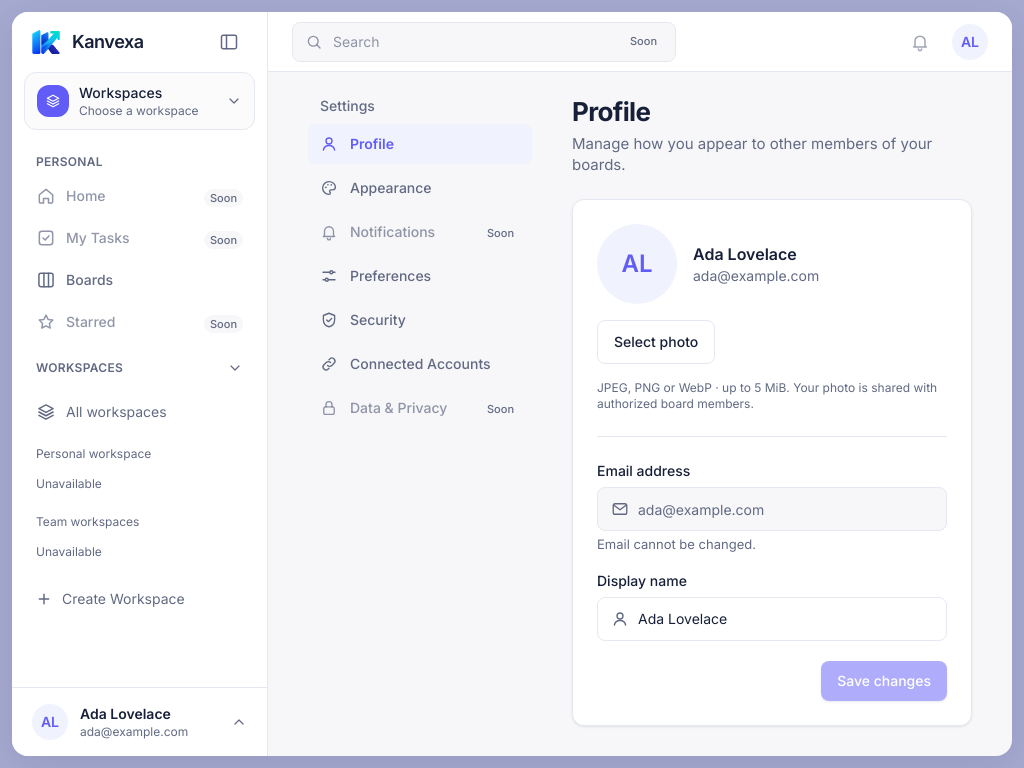
it: auth session isolation › applies a PATCH to the cache and form in the same session
The width and height of the screenshot is (1024, 768).
Expected: the heading "Profile" is shown, [572,96,650,127]
Replace the text in the field labelled "Display name" with "Old session profile" at (772, 619), box [597,597,947,641]
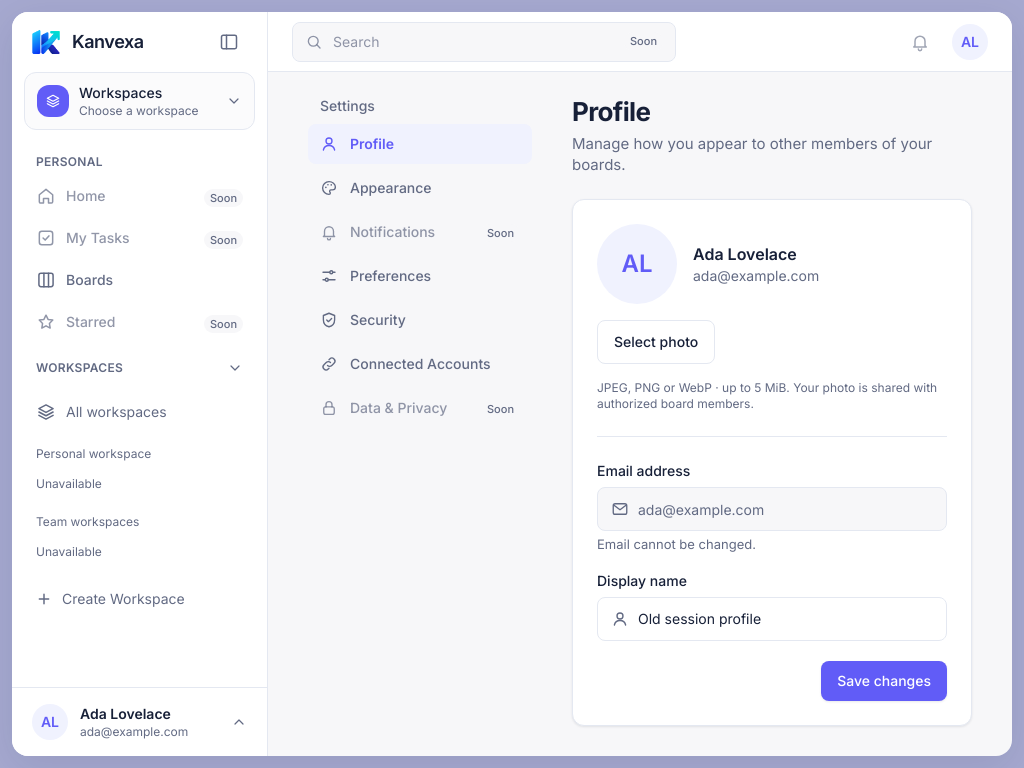
Click the button "Save changes" at (884, 681), box [821,661,947,701]
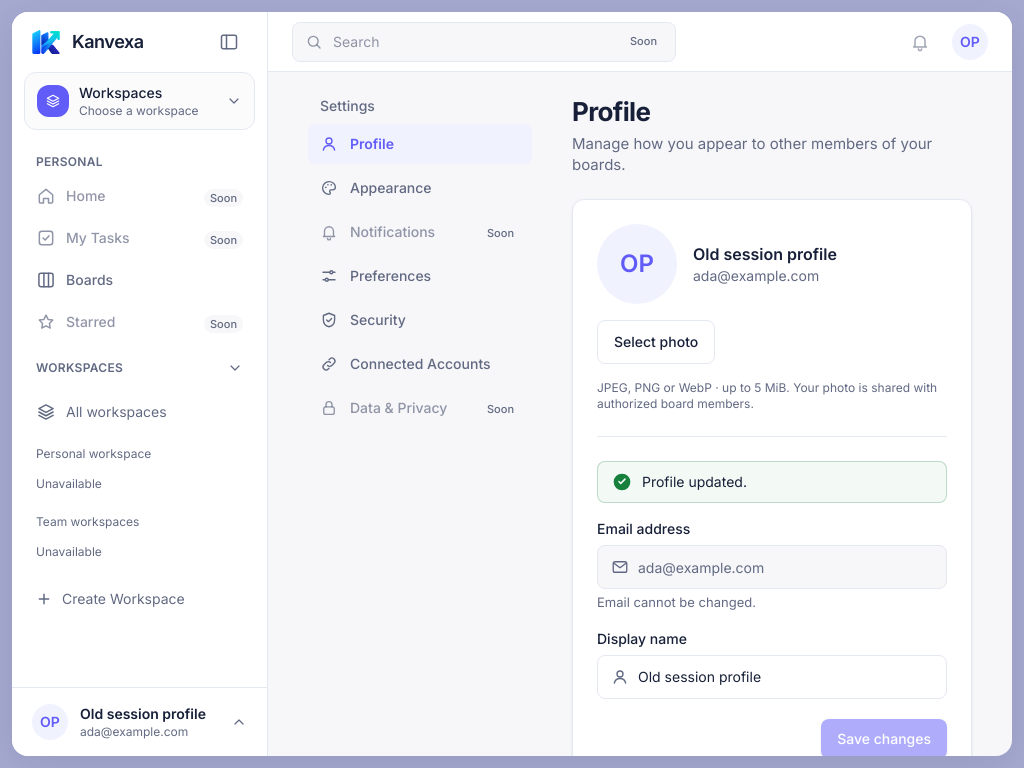
Now the text "Profile updated." is shown, box [642,472,747,492]
